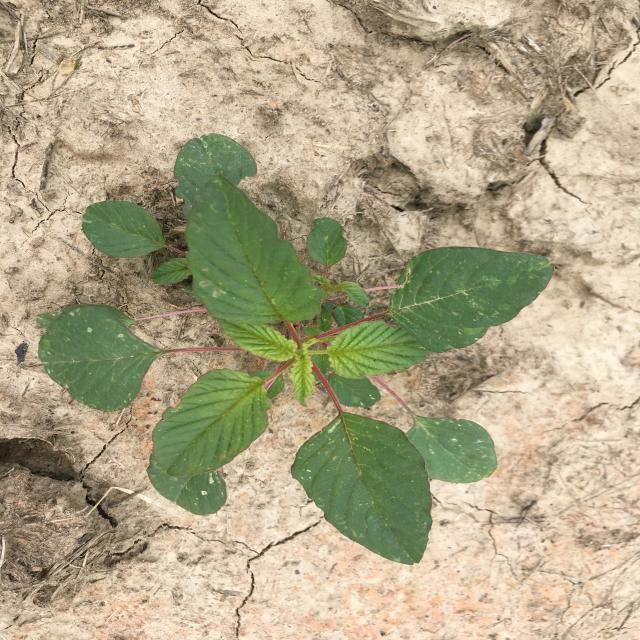PalmerAmaranth: (35, 133, 555, 565)
